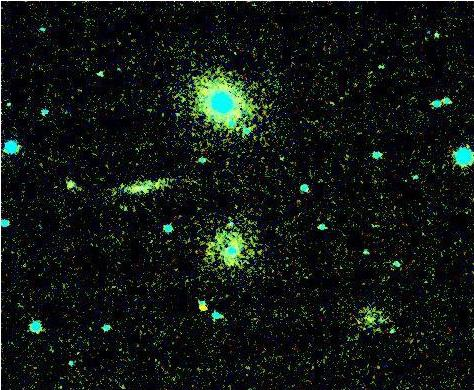star: (189, 294, 219, 324)
